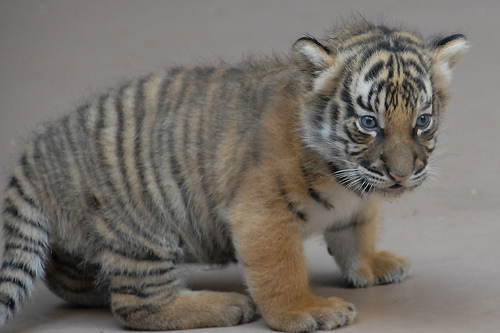Tigre: (18, 34, 446, 310)
